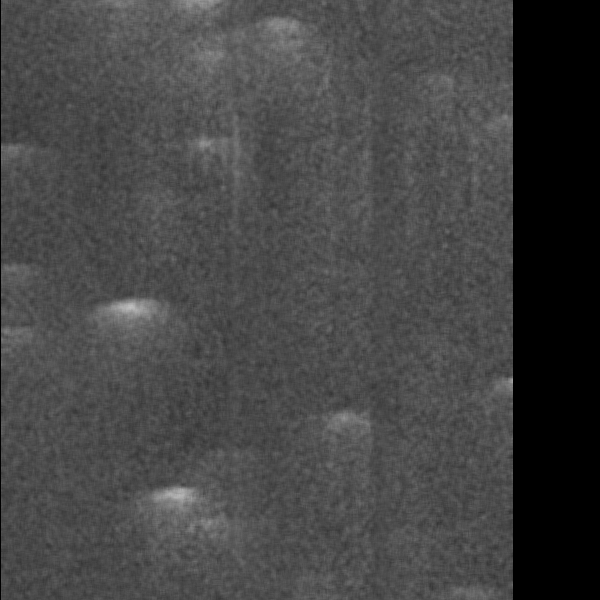spark: (154, 489, 197, 596), (475, 139, 510, 207), (361, 72, 415, 103), (397, 92, 423, 146), (368, 121, 394, 173), (343, 156, 393, 182), (184, 156, 220, 191), (300, 433, 331, 467), (16, 239, 34, 277)
